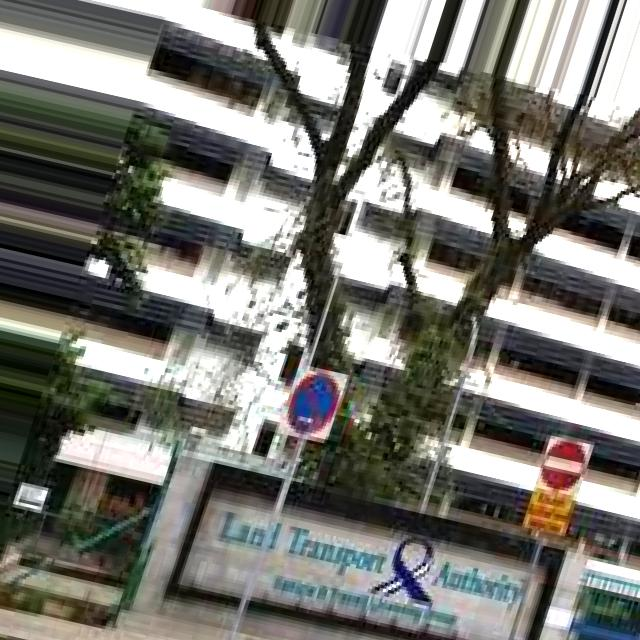forb_stopping: (285, 373, 339, 434)
